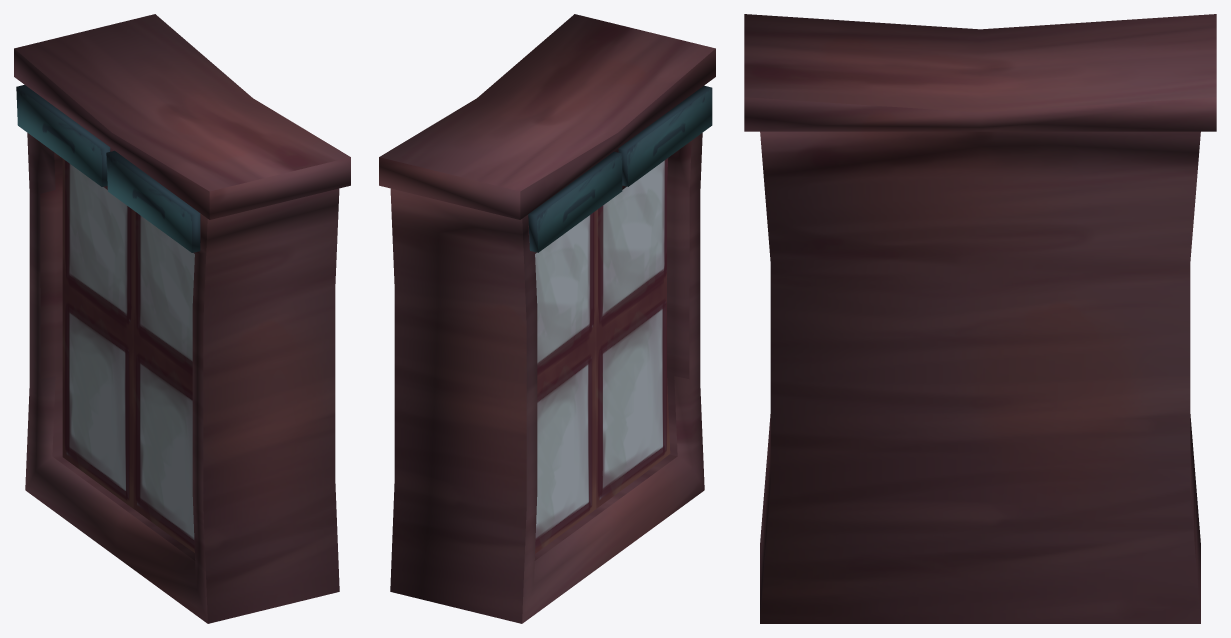
The model's file is EstanteVidrada.fbx.
3 views of the same model, side by side, from view 1: azimuth 30°, elevation 25°; view 2: azimuth 150°, elevation 25°; view 3: azimuth 270°, elevation 25° (orthographic). The views are drawn at different scales.
Visible parts, largest first — view 1: EstanteVidrada; view 2: EstanteVidrada; view 3: EstanteVidrada.
Boxes of the visible parts, x1,y1,x2,y2 form: EstanteVidrada: [14, 14, 350, 623]; EstanteVidrada: [379, 14, 715, 623]; EstanteVidrada: [744, 14, 1216, 623].
Bounding box in the file's own units: 89.68 × 205 × 253.
